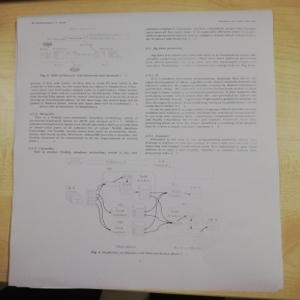diagram: (67, 153, 225, 249), (28, 25, 136, 72), (29, 110, 138, 145), (28, 79, 141, 109)
text: (143, 71, 257, 107), (141, 132, 259, 155), (144, 106, 257, 129), (142, 24, 257, 44), (143, 52, 259, 69), (142, 45, 191, 52)
